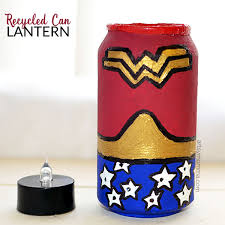can: (96, 22, 197, 220)
